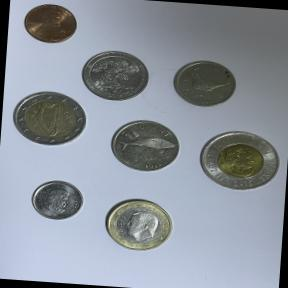coin: (191, 122, 284, 196), (6, 87, 90, 153), (97, 192, 180, 256), (104, 114, 184, 178), (76, 43, 156, 104), (17, 0, 85, 49), (26, 176, 88, 226)
